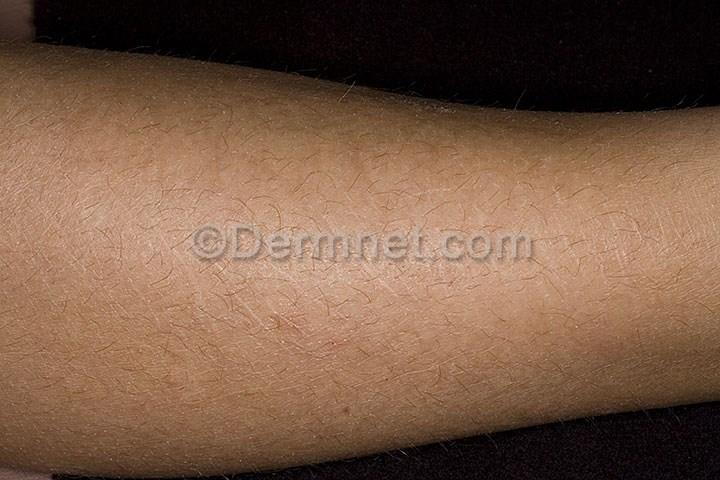xerosis 1: (4, 41, 719, 147)
